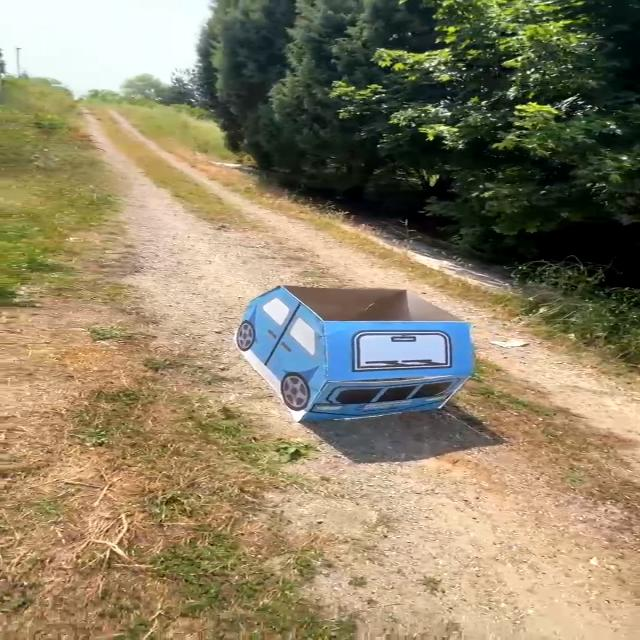blue_car: (214, 266, 511, 433)
